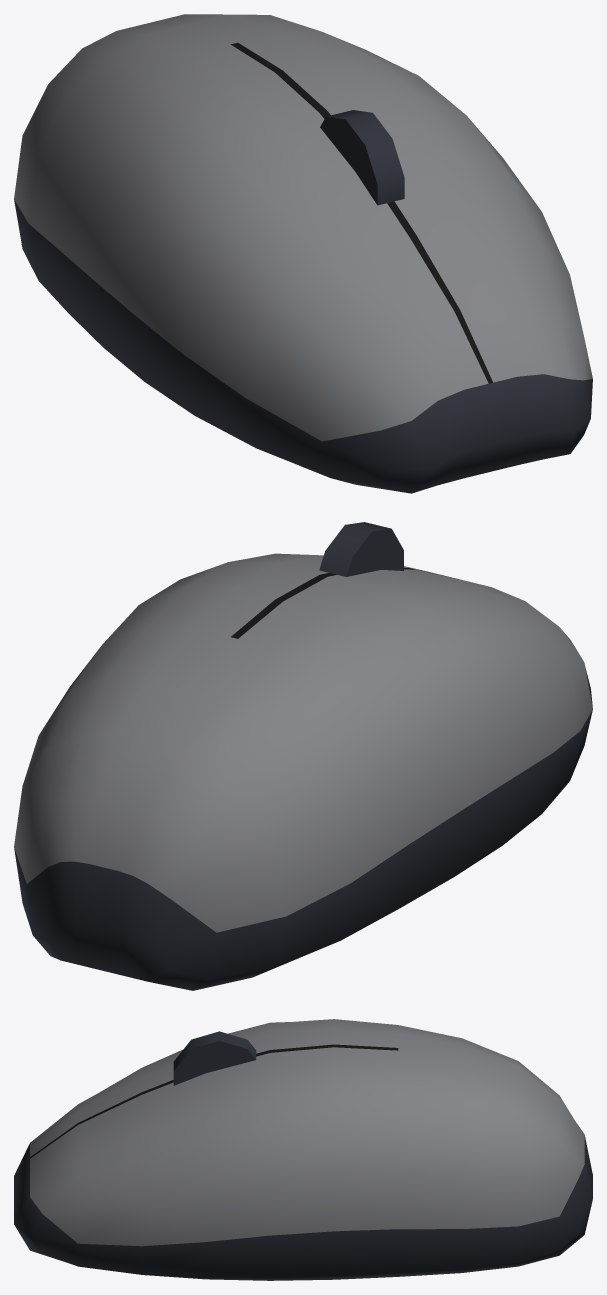
Rendered from mouse.FBX.
The picture shows the model from 3 angles, top to bottom: view 1: azimuth 30°, elevation 25°; view 2: azimuth 150°, elevation 25°; view 3: azimuth 270°, elevation 25°; orthographic projection. The views are drawn at different scales.
Parts seen in each view (by area): view 1: mouse; view 2: mouse; view 3: mouse.
Part boxes in pixels (x1=…): mouse: x1=14, y1=14, x2=592, y2=493; mouse: x1=14, y1=522, x2=592, y2=990; mouse: x1=14, y1=1019, x2=592, y2=1280.
Size of the model in its own units: 0.3912 by 0.2658 by 0.716.
